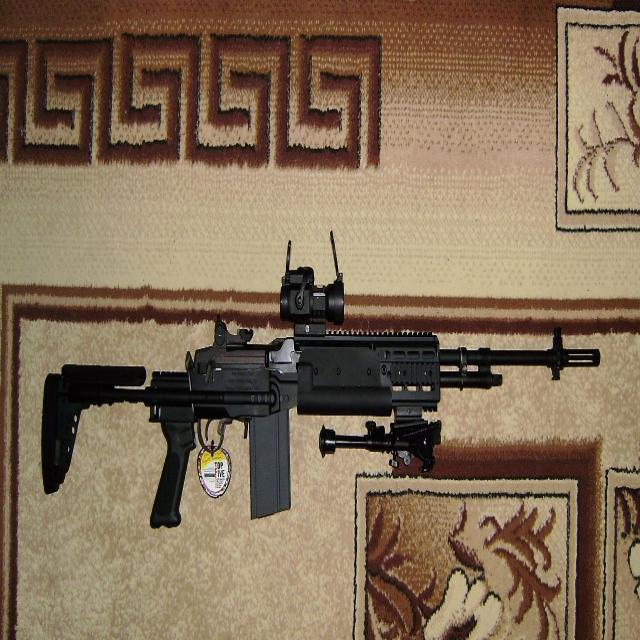firearm: (41, 231, 600, 528)
